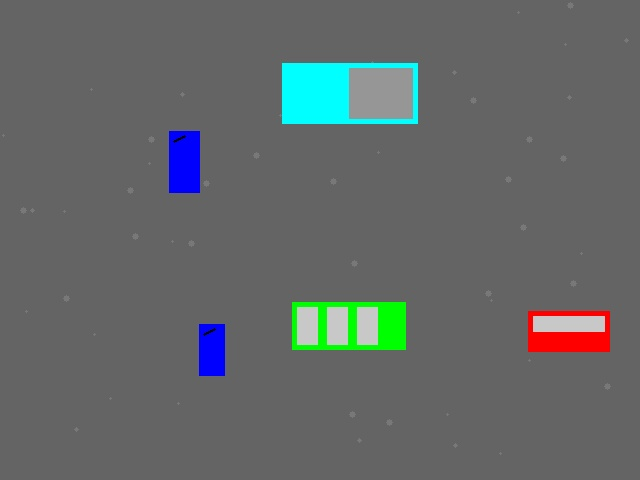bus: (292, 302, 405, 349)
car: (528, 311, 609, 351)
motorcycle: (169, 131, 199, 192), (199, 324, 224, 375)
truck: (282, 63, 417, 123)
